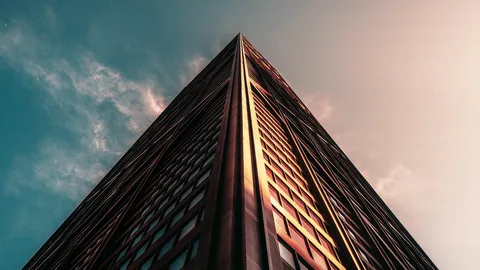high_rise_building: (164, 28, 330, 270)
